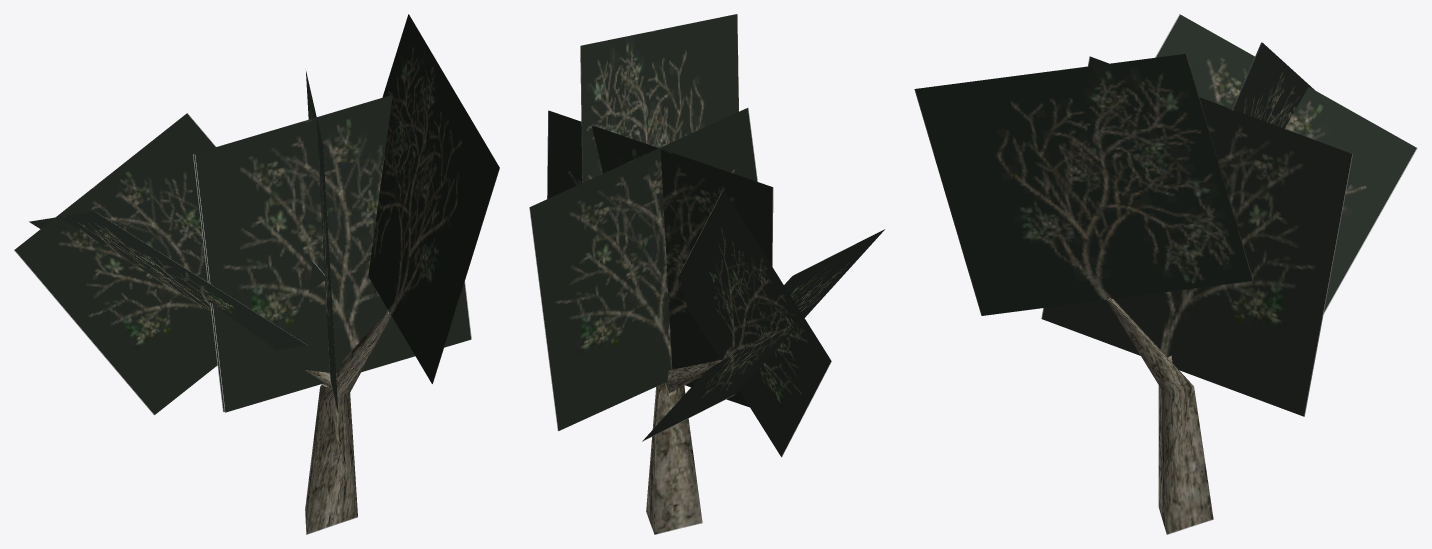
Rendered from mtns_shrb_gnarled_a3_l2.fbx.
3 renders of one model, left to right at view 1: azimuth 30°, elevation 25°; view 2: azimuth 150°, elevation 25°; view 3: azimuth 270°, elevation 25°, orthographic. The views are drawn at different scales.
Parts seen in each view (by area): view 1: mesh_node; view 2: mesh_node; view 3: mesh_node.
Boxes of the visible parts, box(x1,y1,x2,y2) form: mesh_node: box(14, 14, 499, 534); mesh_node: box(529, 14, 884, 534); mesh_node: box(914, 14, 1417, 534).
Size of the model in its own units: 0.9095 by 1.11 by 0.9839.
